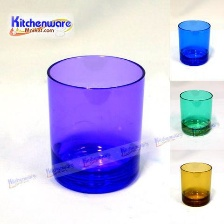glass: (41, 47, 153, 206), (176, 85, 217, 139), (173, 17, 213, 70), (177, 160, 220, 208)
